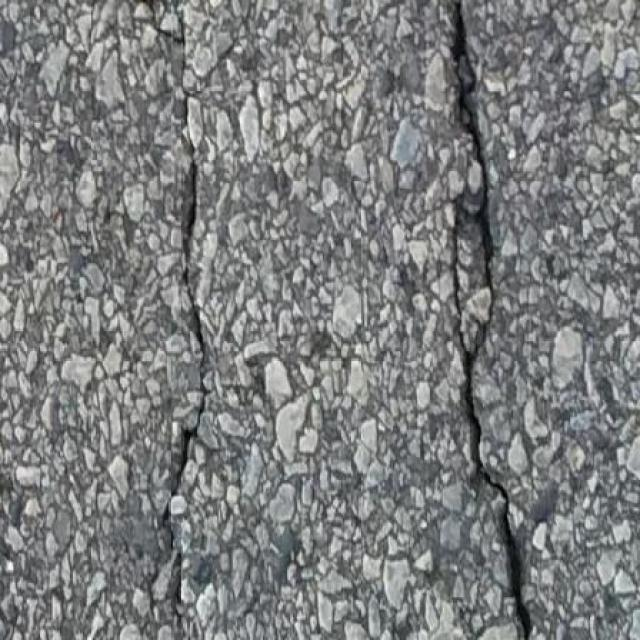Crack: (451, 0, 532, 639), (143, 0, 210, 639)
